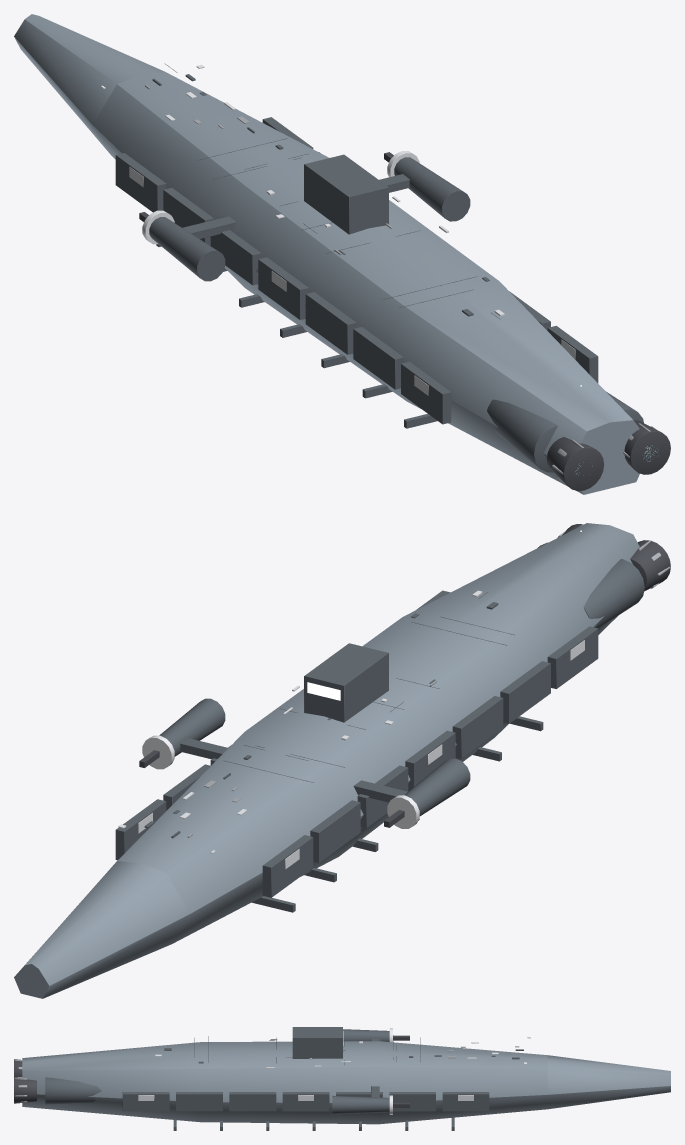
File: capital_talon.glb
The picture shows the model from 3 angles, top to bottom: view 1: azimuth 30°, elevation 25°; view 2: azimuth 150°, elevation 25°; view 3: azimuth 270°, elevation 25°; orthographic projection. The views are drawn at different scales.
Parts seen in each view (by area): view 1: TalonHull, SUB_engine_1, SUB_engine_0; view 2: TalonHull, SUB_engine_1; view 3: TalonHull, SUB_engine_0.
Part boxes in pixels (x1=…): TalonHull: x1=14, y1=14, x2=639, y2=494; SUB_engine_1: x1=487, y1=399, x2=604, y2=490; SUB_engine_0: x1=606, y1=391, x2=670, y2=474; TalonHull: x1=14, y1=523, x2=639, y2=998; SUB_engine_1: x1=583, y1=540, x2=670, y2=628; TalonHull: x1=22, y1=1027, x2=670, y2=1130; SUB_engine_0: x1=14, y1=1077, x2=101, y2=1104.
Bounding box in the file's own units: 24.63 × 12.22 × 91.15.
